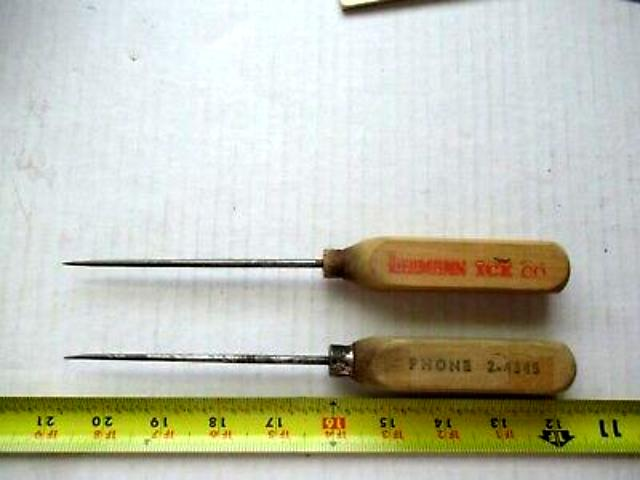ice pick: (61, 232, 573, 296), (64, 331, 576, 393)
